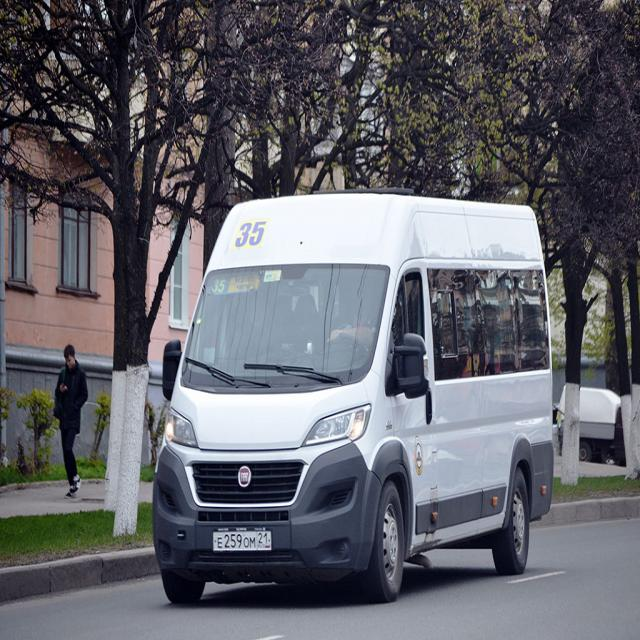number-of-bus: (235, 214, 269, 253), (209, 274, 229, 297)
